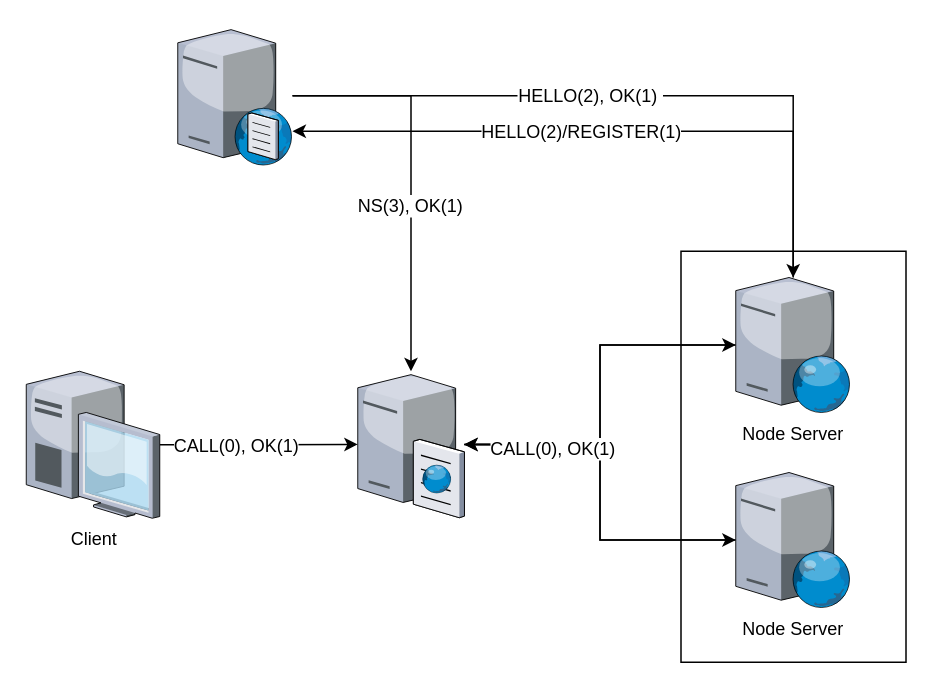
Image size: 932x689. Some labels were removed from this diagram. The centre of each missing label's shape, as x and y in pixels:
Load Balance Server with Cache: point (410, 443)
Name Server: point (234, 95)
